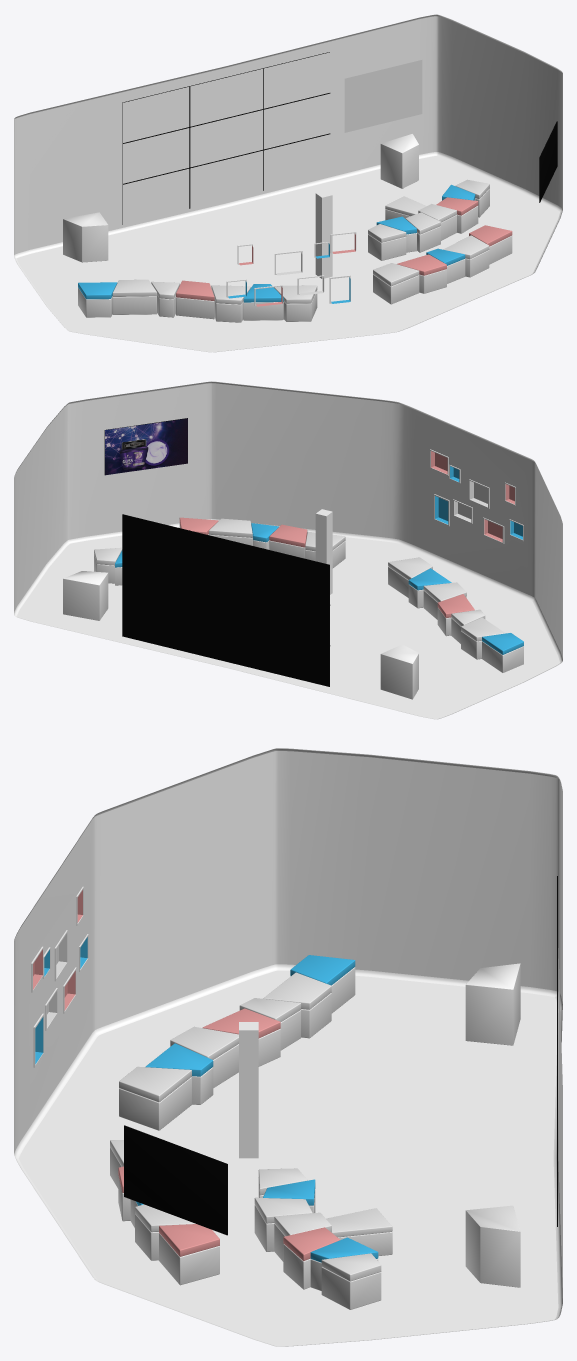
The model's file is Digital Lounge.glb.
3 renders of one model, top to bottom at view 1: azimuth 30°, elevation 25°; view 2: azimuth 150°, elevation 25°; view 3: azimuth 270°, elevation 25°, orthographic. The views are drawn at different scales.
Visible parts, largest first — view 1: floor, walls, screen Plane, seatUp (×14), seatDown (×12), Board, stehledown (×2), Rounding 1, Height 180, Rounding 2, Rahmen; view 2: walls, floor, screen BAck, seatUp (×9), stehledown (×2), Bild, Rounding 1, Rounding 2, Height 180, seatDown; view 3: floor, walls, seatUp (×17), seatDown (×7), stehledown (×2), Rahmen, Rounding 1, Height 180, Rounding 2.
Boxes of the visible parts, bbox=[...] form: floor: bbox=[17, 156, 559, 352]; walls: bbox=[14, 16, 562, 254]; screen Plane: bbox=[122, 52, 329, 224]; seatUp (×14): bbox=[78, 196, 512, 304]; seatDown (×12): bbox=[78, 226, 512, 322]; Board: bbox=[344, 60, 422, 132]; stehledown (×2): bbox=[63, 134, 418, 262]; Rounding 1: bbox=[14, 152, 562, 352]; Height 180: bbox=[315, 190, 332, 278]; Rounding 2: bbox=[14, 14, 562, 119]; Rahmen: bbox=[539, 121, 557, 202]; walls: bbox=[14, 383, 562, 658]; floor: bbox=[17, 527, 559, 719]; screen BAck: bbox=[122, 514, 329, 686]; seatUp (×9): bbox=[179, 517, 523, 654]; stehledown (×2): bbox=[63, 571, 418, 699]; Bild: bbox=[105, 418, 187, 475]; Rounding 1: bbox=[14, 519, 562, 719]; Rounding 2: bbox=[15, 381, 560, 515]; Height 180: bbox=[315, 509, 332, 594]; seatDown: bbox=[482, 641, 523, 672]; floor: bbox=[19, 970, 558, 1346]; walls: bbox=[14, 751, 562, 1297]; seatUp (×17): bbox=[119, 955, 392, 1281]; seatDown (×7): bbox=[119, 967, 381, 1309]; stehledown (×2): bbox=[465, 963, 520, 1287]; Rahmen: bbox=[124, 1125, 227, 1235]; Rounding 1: bbox=[14, 964, 562, 1346]; Height 180: bbox=[239, 1022, 258, 1158]; Rounding 2: bbox=[14, 748, 560, 939].
Size of what is drawn, in the model's own units: 1145 by 312 by 700.
12 materials, 1 textured.
